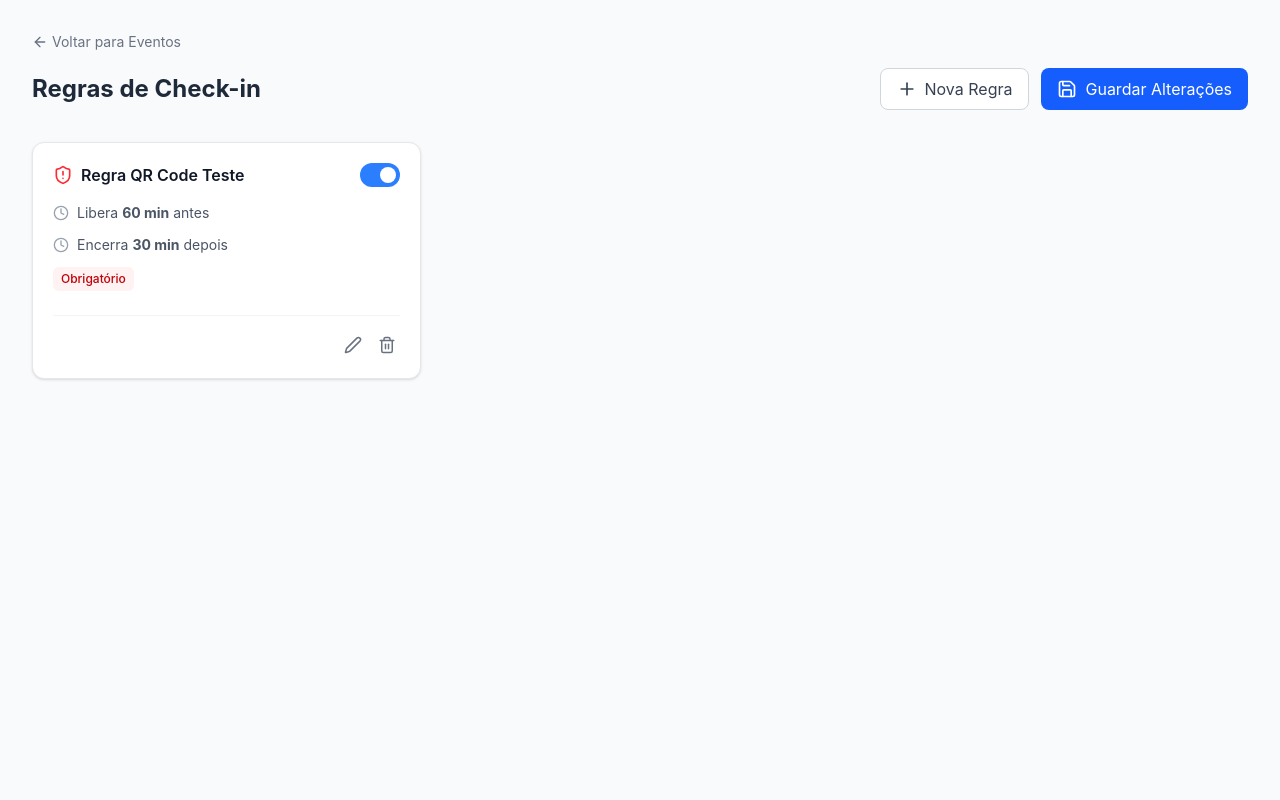
Test case: Componente React: ConfiguracaoCheckin › deve abrir o modal de configuração ao clicar em Nova Regra
This screenshot has width=1280, height=800.
# Localiza e clica no botão após a interface estar pronta e estável
Click the button "Nova Regra" at (954, 89), box top-left (880, 68), bottom-right (1030, 110)
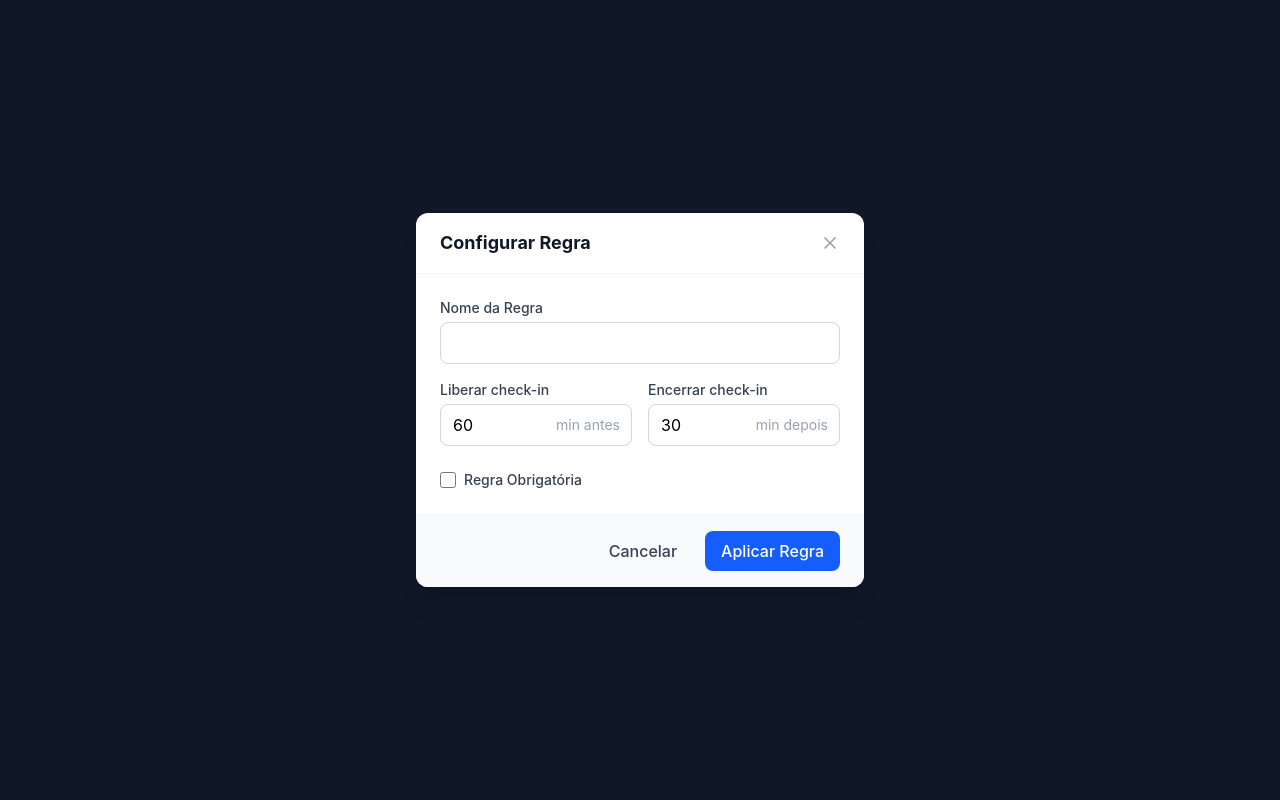
Expected: the heading "Configurar Regra" is shown, top-left (440, 229), bottom-right (591, 257)
Expected: the field labelled "Nome da Regra" is shown, top-left (440, 322), bottom-right (840, 364)
Expected: the number field labelled "Liberar check-in" is shown, top-left (440, 404), bottom-right (632, 446)
